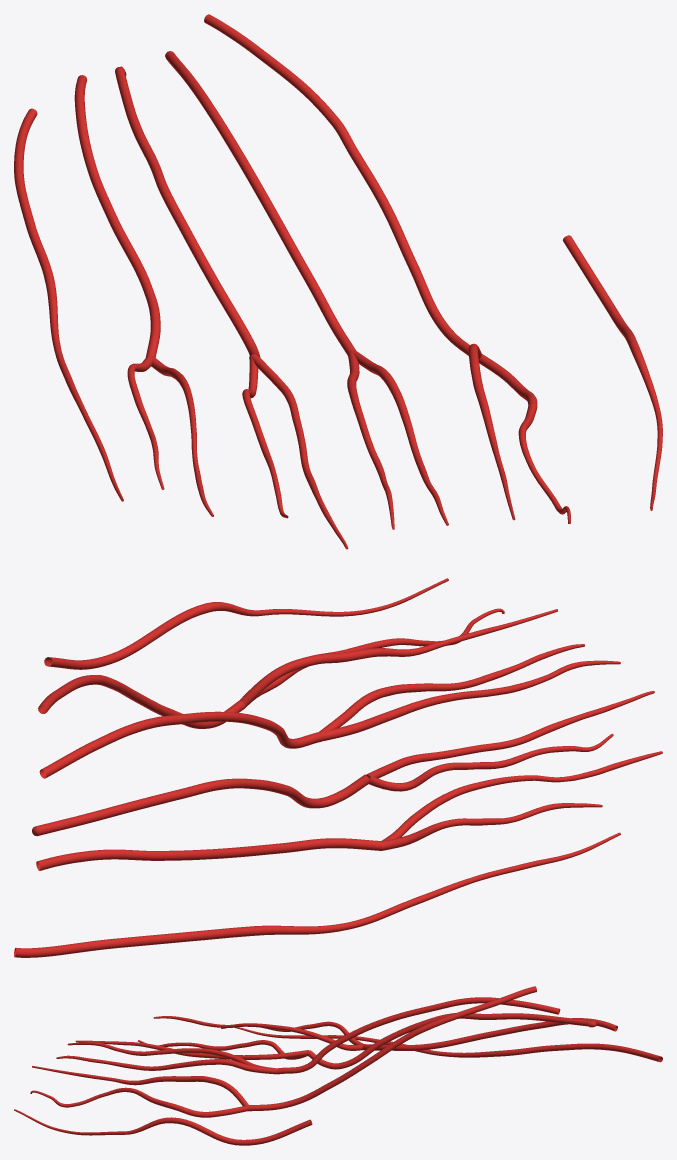
File: circulatorio-plantar-metatarsal-veins-r.glb
3 views of the same model, one above another, from view 1: azimuth 30°, elevation 25°; view 2: azimuth 150°, elevation 25°; view 3: azimuth 270°, elevation 25° (orthographic). The views are drawn at different scales.
Visible parts, largest first — view 1: Plantar digital veins.r, Plantar metatarsal veins.r; view 2: Plantar digital veins.r, Plantar metatarsal veins.r; view 3: Plantar digital veins.r, Plantar metatarsal veins.r.
Part boxes in pixels (x1,y1,x2,y2): Plantar digital veins.r: (14, 108, 662, 549); Plantar metatarsal veins.r: (74, 14, 469, 359); Plantar digital veins.r: (14, 578, 662, 957); Plantar metatarsal veins.r: (32, 675, 384, 870); Plantar digital veins.r: (14, 1016, 662, 1145); Plantar metatarsal veins.r: (247, 986, 617, 1111).
Bounding box in the file's own units: 0.0829 × 0.0361 × 0.1479.
